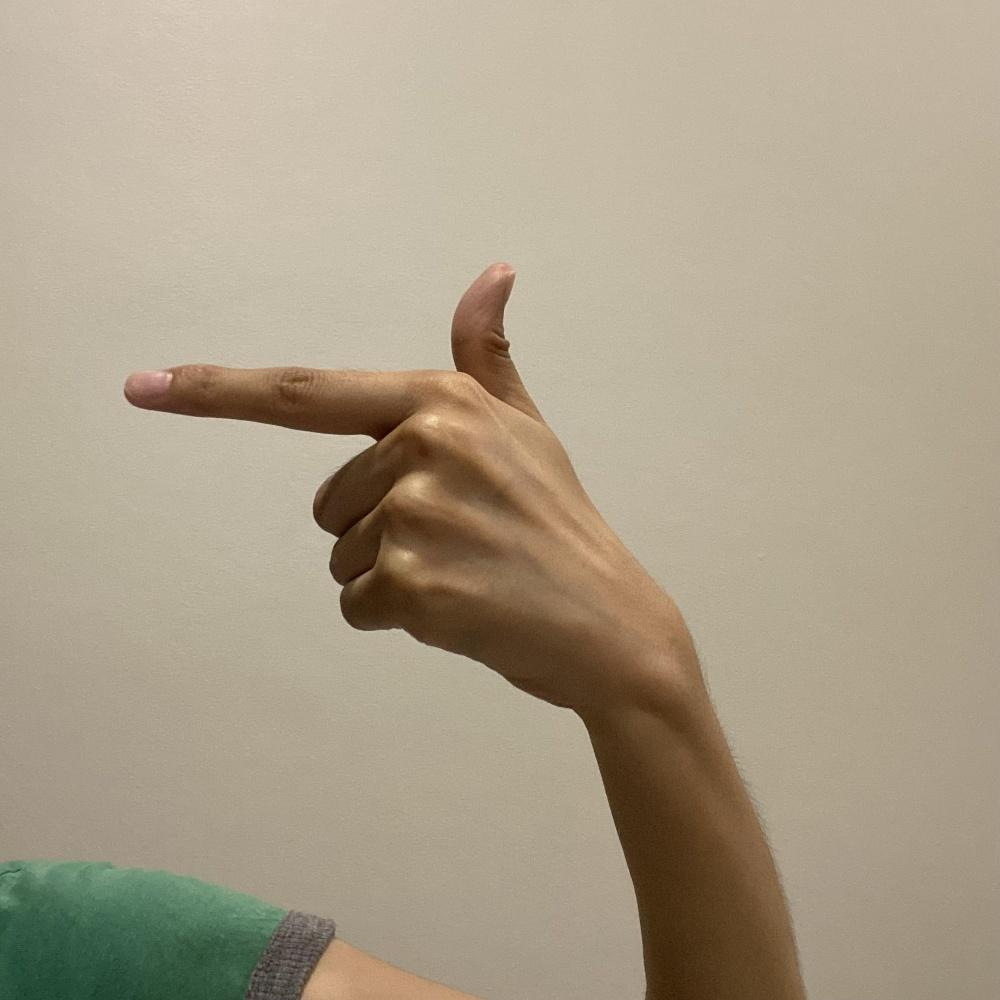g: (120, 254, 673, 713)
